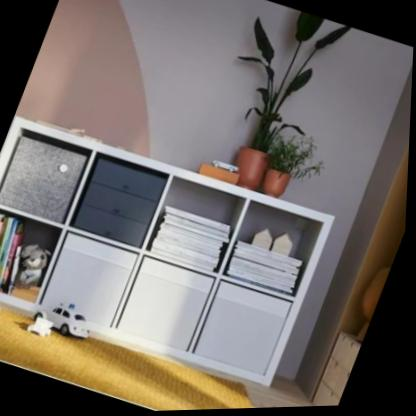Shelf: (0, 101, 354, 410)
